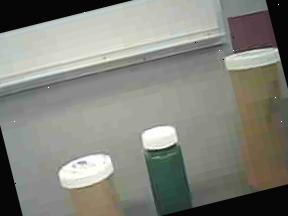Bottle A: (211, 34, 288, 193)
Bottle B: (51, 144, 135, 216)
Bottle C: (134, 118, 197, 216)
